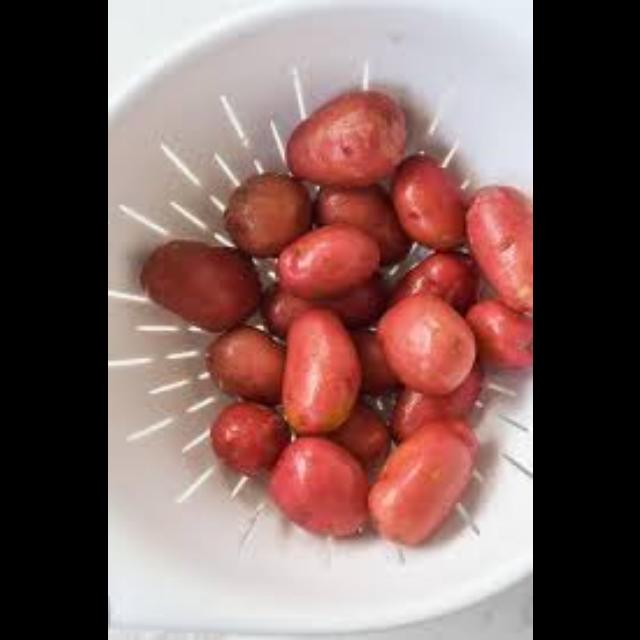Defected potato: (365, 418, 477, 552), (281, 80, 409, 190), (137, 234, 260, 332), (267, 433, 373, 541), (280, 302, 362, 436), (378, 292, 478, 398), (462, 178, 532, 314), (276, 224, 384, 302), (209, 398, 293, 478)
